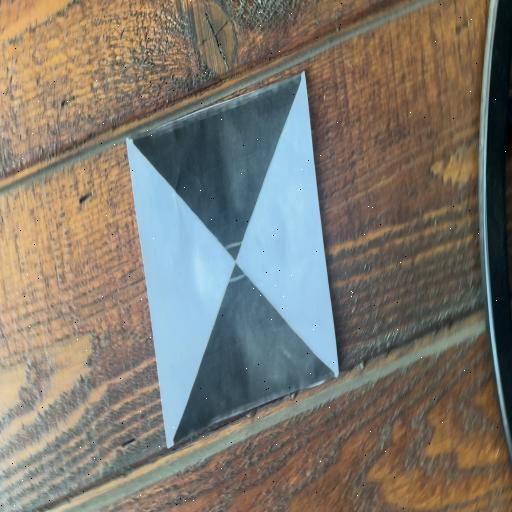target: (129, 72, 339, 446)
